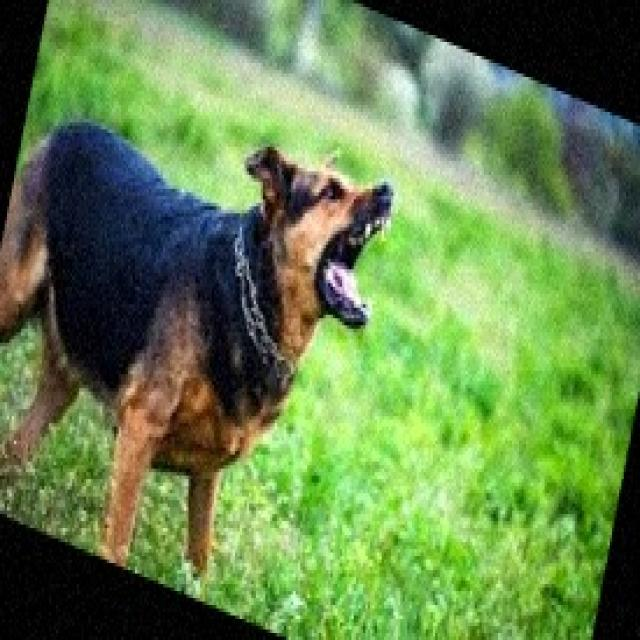angry: (195, 66, 406, 426)
